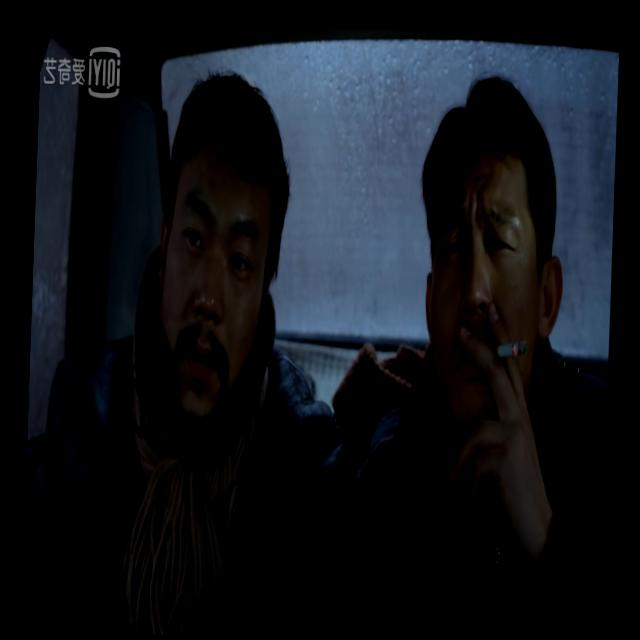smoke: (486, 333, 528, 364)
